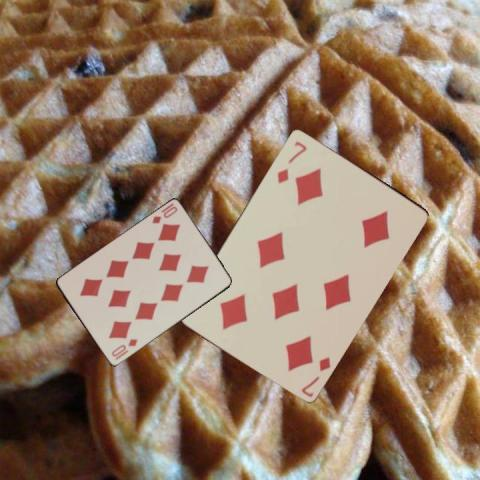10d: (148, 200, 178, 225), (108, 336, 138, 359)
7d: (274, 138, 308, 185), (298, 353, 332, 398)
